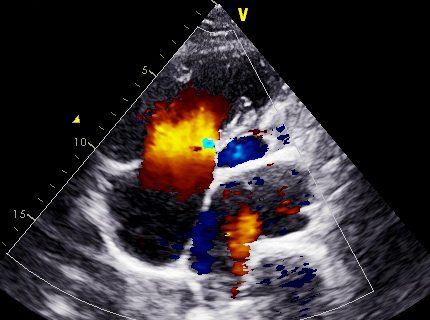TR: (177, 128, 238, 243)
